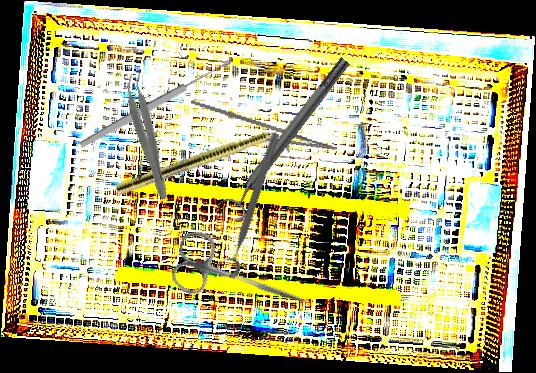Fixation Ring: (214, 51, 360, 225), (213, 128, 284, 280)
Handpiece: (114, 116, 305, 199)
Iris Scissors: (166, 227, 318, 330)
Needle Holder: (185, 99, 341, 163)
Surgical Spoon: (78, 58, 232, 150)
Tissue Forceps: (120, 70, 177, 202)
